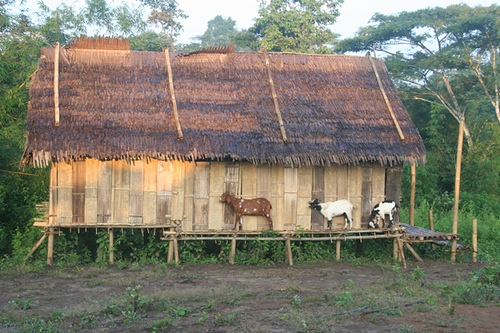goat: (218, 193, 275, 231), (308, 198, 356, 231), (367, 200, 398, 229)
